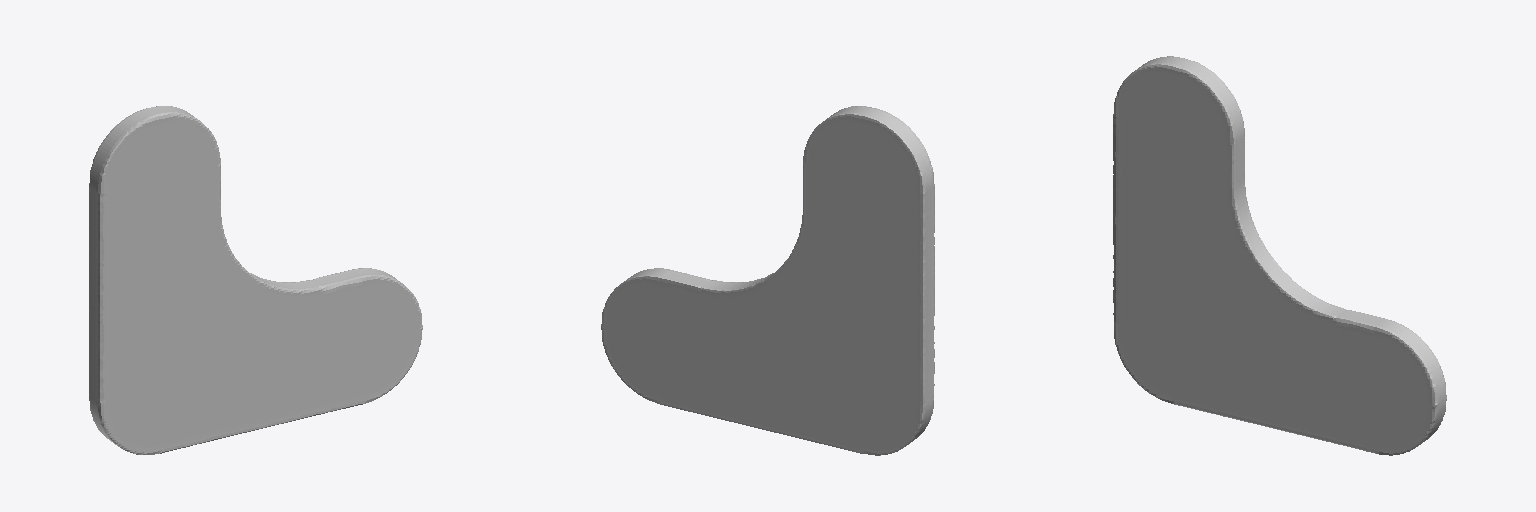
The model's file is TexturedOutterWall.obj.
3 views of the same model, side by side, from view 1: azimuth 30°, elevation 25°; view 2: azimuth 150°, elevation 25°; view 3: azimuth 330°, elevation 25° (orthographic).
Parts seen in each view (by area): view 1: obj0; view 2: obj0; view 3: obj0.
Part boxes in pixels (left/top/right/bottom): obj0: left=89, top=106, right=422, bottom=454; obj0: left=601, top=106, right=934, bottom=455; obj0: left=1113, top=56, right=1446, bottom=455.
Size of the model in its own units: 25.4 by 25.4 by 1.61.